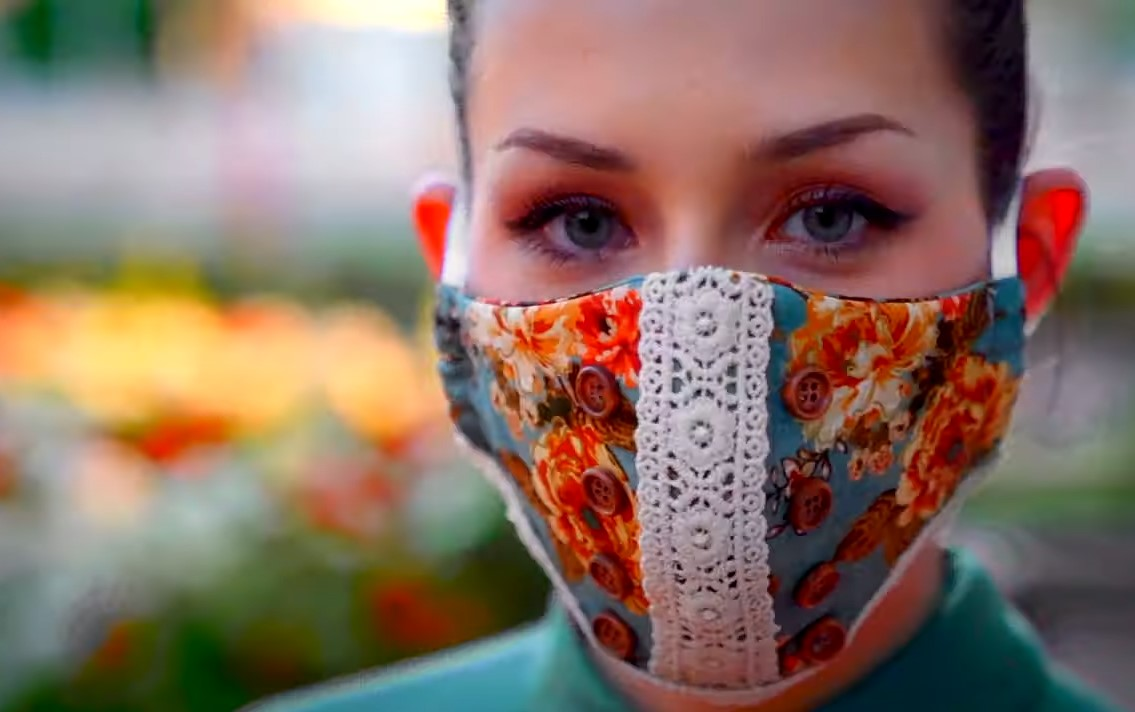face_with_mask: (412, 3, 1091, 712)
